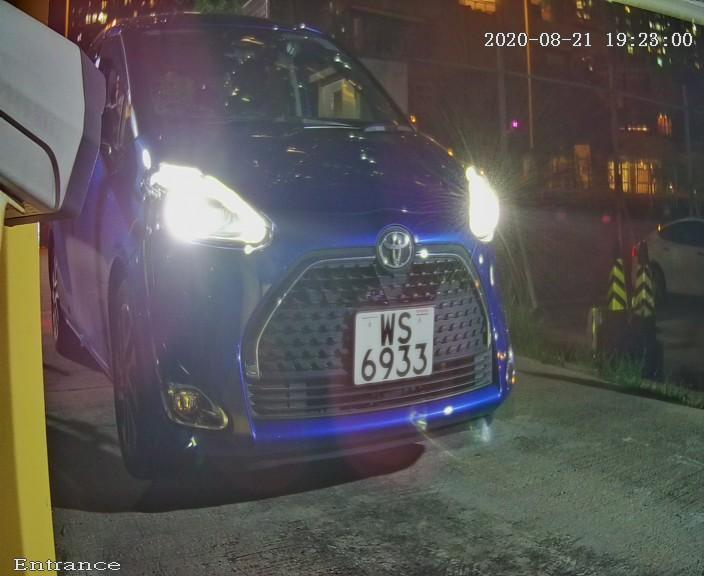Car: (26, 3, 554, 530)
License Plate: (337, 291, 450, 394)
